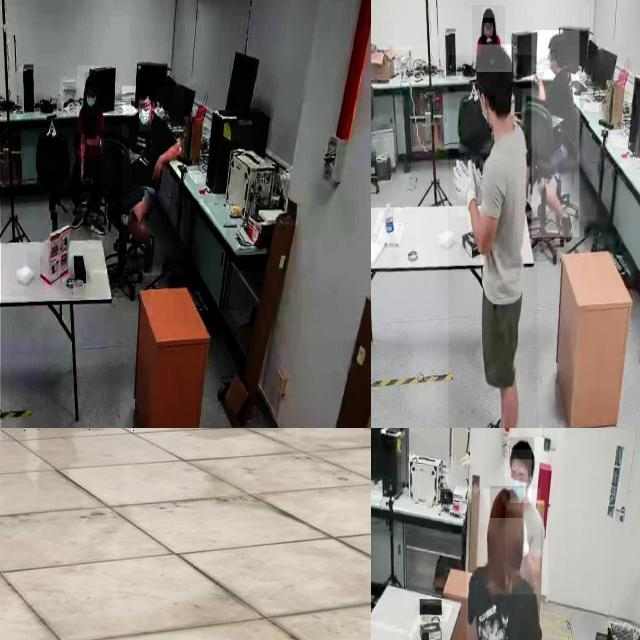face_mask: (510, 449, 532, 503), (83, 87, 99, 117), (139, 99, 151, 131)
face_nomask: (482, 23, 493, 37)
hand_glove: (450, 155, 484, 217)
hand_noglove: (152, 157, 162, 184), (79, 163, 87, 185), (533, 72, 544, 86), (78, 132, 87, 145)
head_nohelmet: (490, 486, 524, 519), (477, 44, 512, 73), (509, 437, 535, 460), (548, 32, 568, 47), (136, 83, 155, 97), (84, 72, 100, 86), (482, 7, 494, 19)
person: (448, 55, 537, 428), (122, 86, 185, 276), (466, 488, 541, 640), (532, 30, 580, 238), (505, 437, 549, 595), (77, 65, 111, 224), (472, 6, 506, 68)
shoes: (88, 212, 106, 238), (70, 208, 84, 235)
